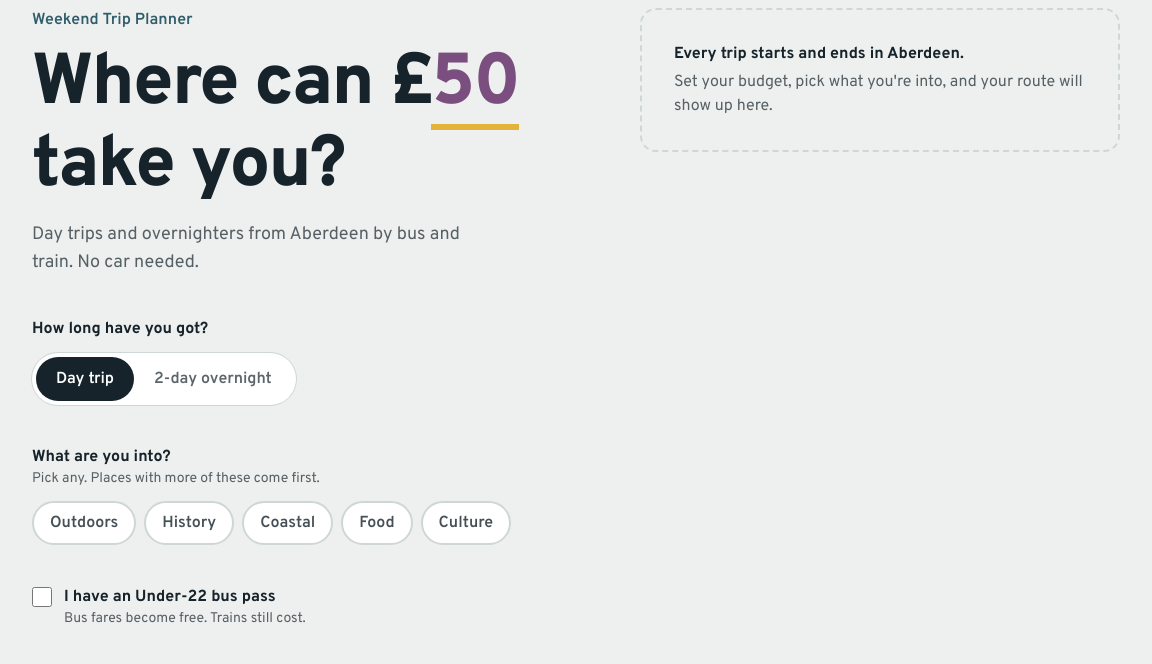
Test: Weekend Trip Planner › adds overnight cost when 2-day overnight is selected
Replace the text in the number field with "150" at (475,89), box [431,48,519,130]
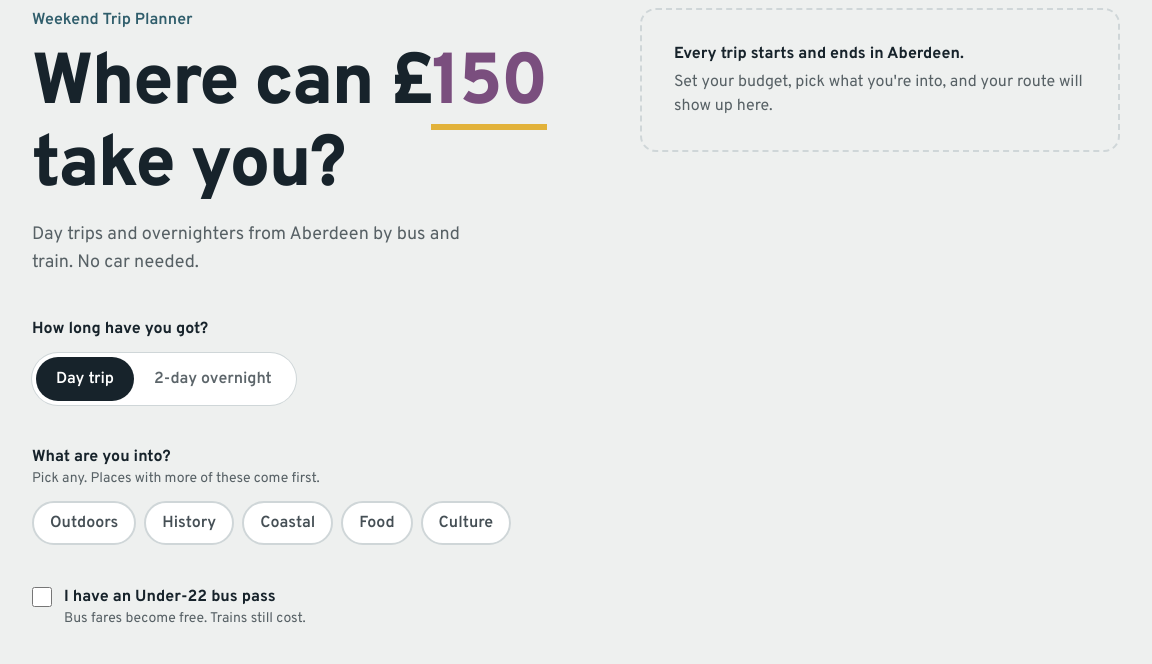
Click the radio button labelled "2-day overnight" at (213,379), box [154,369,272,389]
(page scrolled)
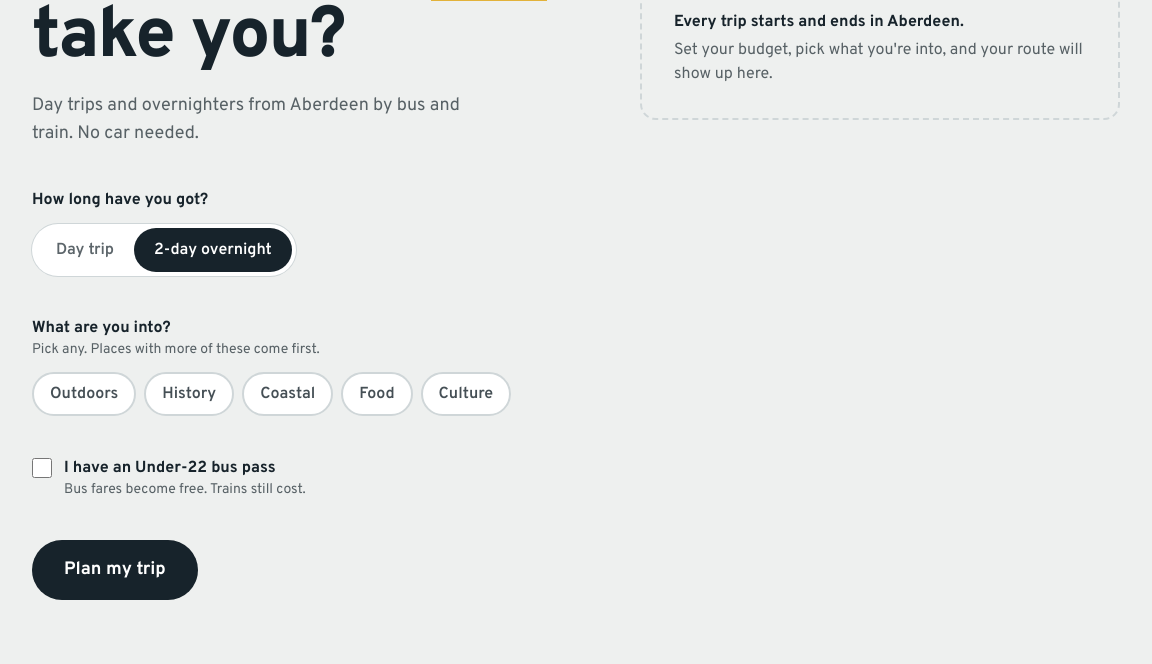
Click the button "Plan my trip" at (115,570), box [32,540,198,600]
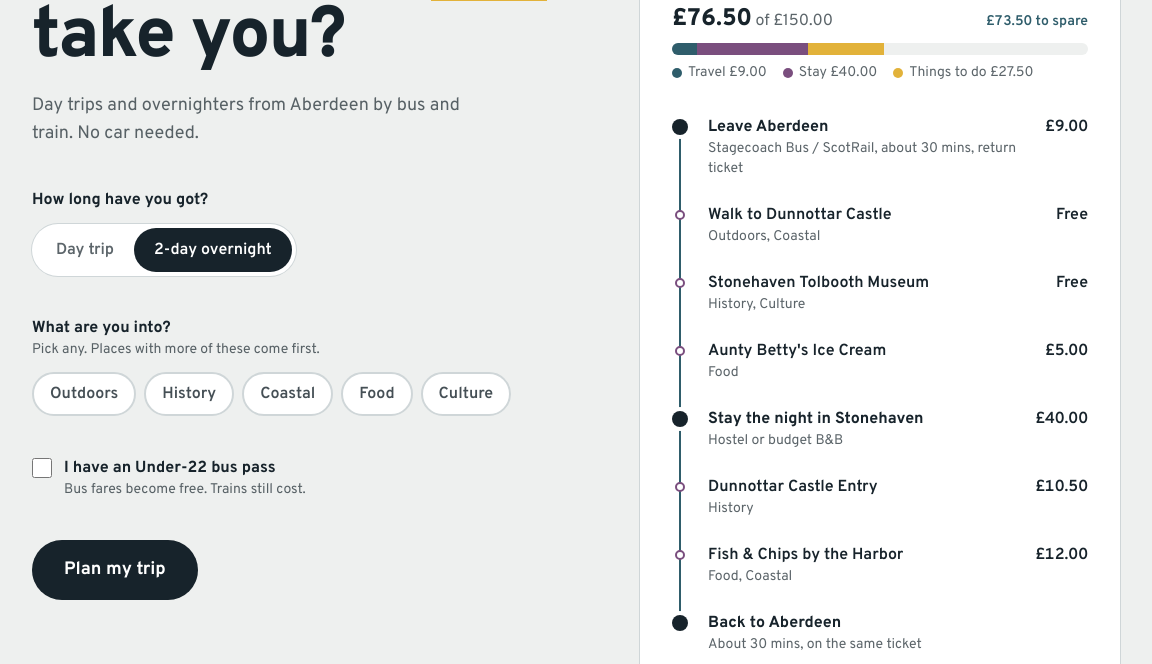
Now the text "Stay the night in Stonehaven" is shown, box [708,407,924,431]
